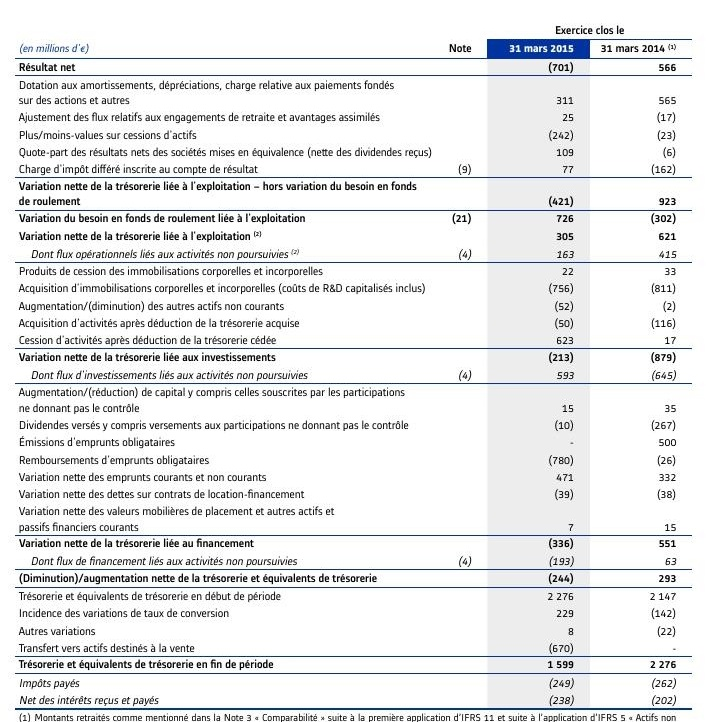table: (0, 0, 710, 722)
